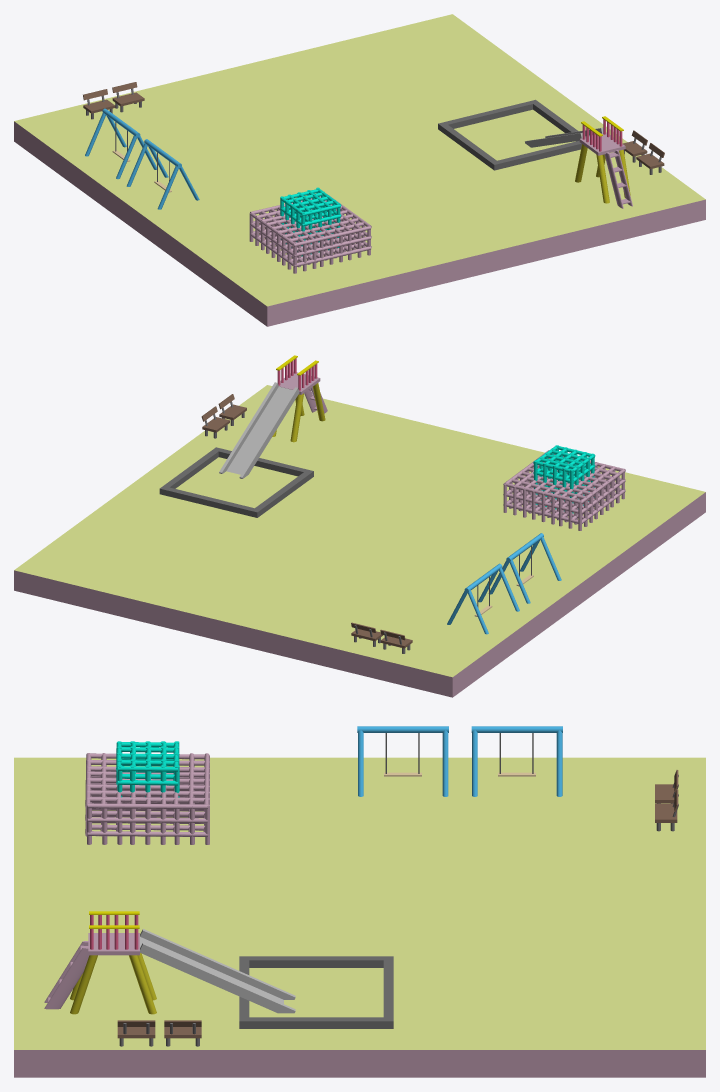
The model's file is park_model.fbx.
The picture shows the model from 3 angles, top to bottom: view 1: azimuth 30°, elevation 25°; view 2: azimuth 150°, elevation 25°; view 3: azimuth 270°, elevation 25°; orthographic projection. The views are drawn at different scales.
Visible parts, largest first — view 1: 円柱.067; view 2: 円柱.067; view 3: 円柱.067.
Boxes of the visible parts, box(x1,y1,x2,y2) form: 円柱.067: box(14, 14, 705, 326); 円柱.067: box(14, 355, 705, 697); 円柱.067: box(14, 726, 705, 1077).
Bounding box in the file's own units: 2670 × 485 × 2670.
